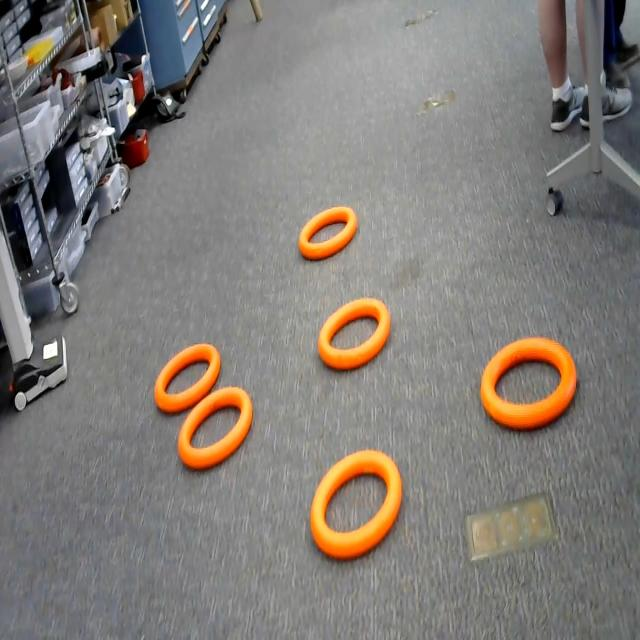note: (307, 448, 408, 566), (481, 335, 580, 437), (173, 380, 255, 475), (315, 292, 394, 373), (150, 340, 224, 415), (294, 200, 358, 268)
